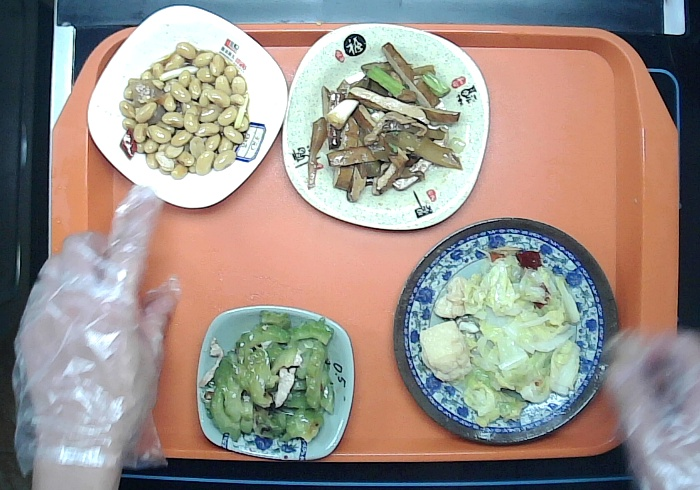NLDX-Bai_Se_Xiao_Fang_Die: (80, 1, 293, 213)
NLDX-Fu_Zi_Fang_Die: (278, 19, 492, 232)
NLDX-Qing_Hua_Xiao_Fang_Die: (194, 302, 358, 465)
NLDX-Qing_Hua_Yuan_Die: (393, 213, 624, 446)
